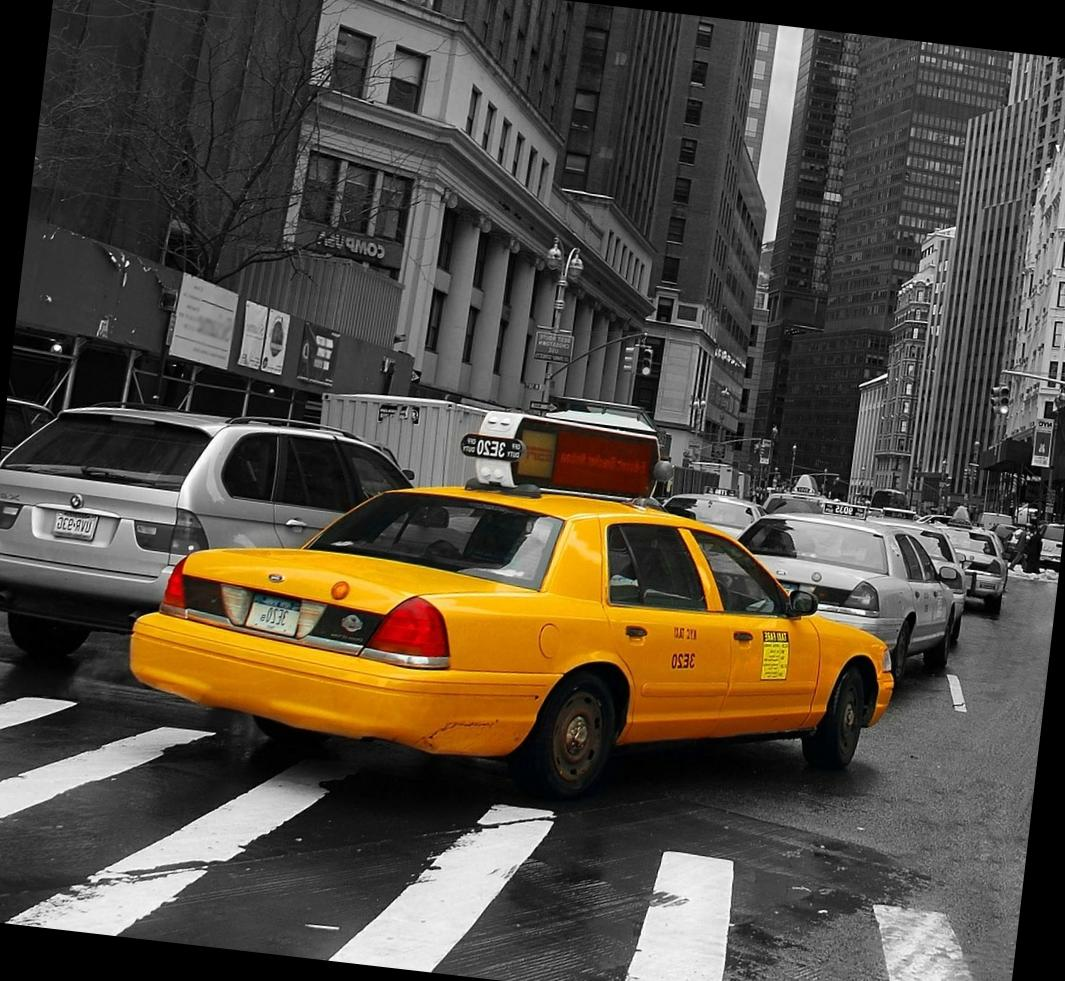taxi: (115, 462, 900, 771)
